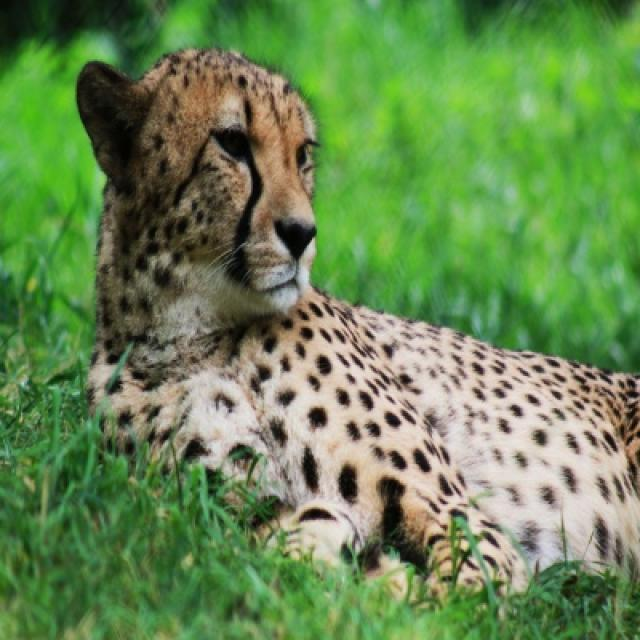Cheetah: (78, 50, 638, 592)
